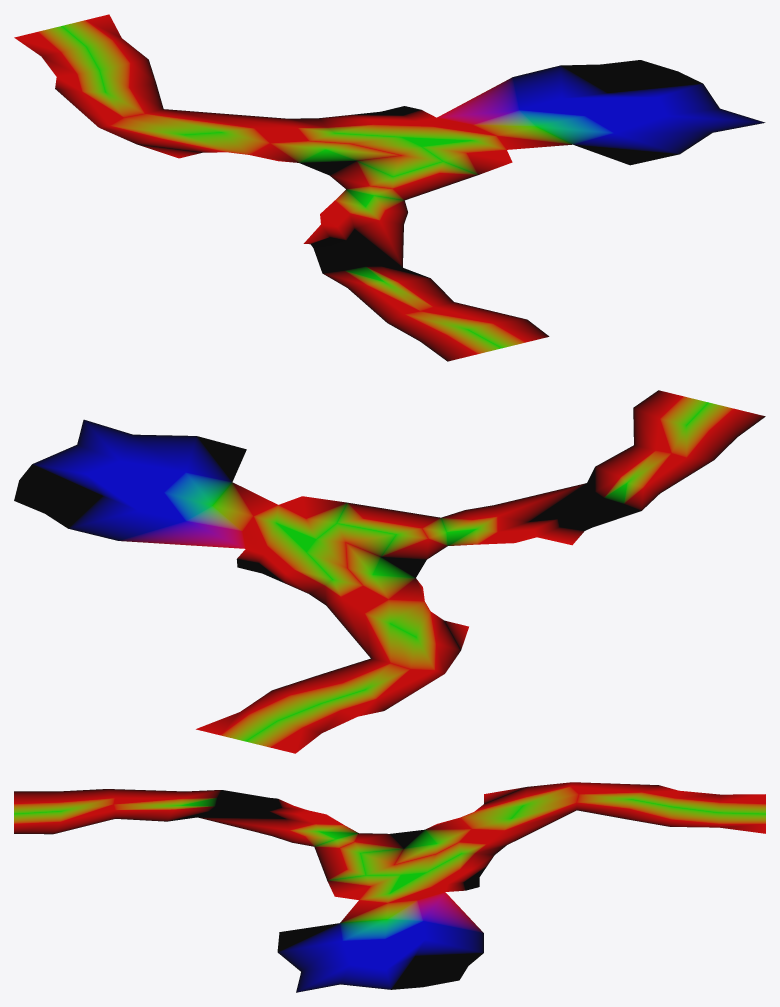
File: Section_WayLineCamp01_Mountains_Terrain.fbx
3 views of the same model, one above another, from view 1: azimuth 30°, elevation 25°; view 2: azimuth 150°, elevation 25°; view 3: azimuth 270°, elevation 25° (orthographic). The views are drawn at different scales.
Parts seen in each view (by area): view 1: Section_WayLineCamp01_Mountains_Terrain; view 2: Section_WayLineCamp01_Mountains_Terrain; view 3: Section_WayLineCamp01_Mountains_Terrain.
Part boxes in pixels (left/top/right/bottom): Section_WayLineCamp01_Mountains_Terrain: left=14, top=14, right=765, bottom=361; Section_WayLineCamp01_Mountains_Terrain: left=14, top=390, right=765, bottom=753; Section_WayLineCamp01_Mountains_Terrain: left=14, top=782, right=765, bottom=992.
Bounding box in the file's own units: 5301 × 73.23 × 8000.
